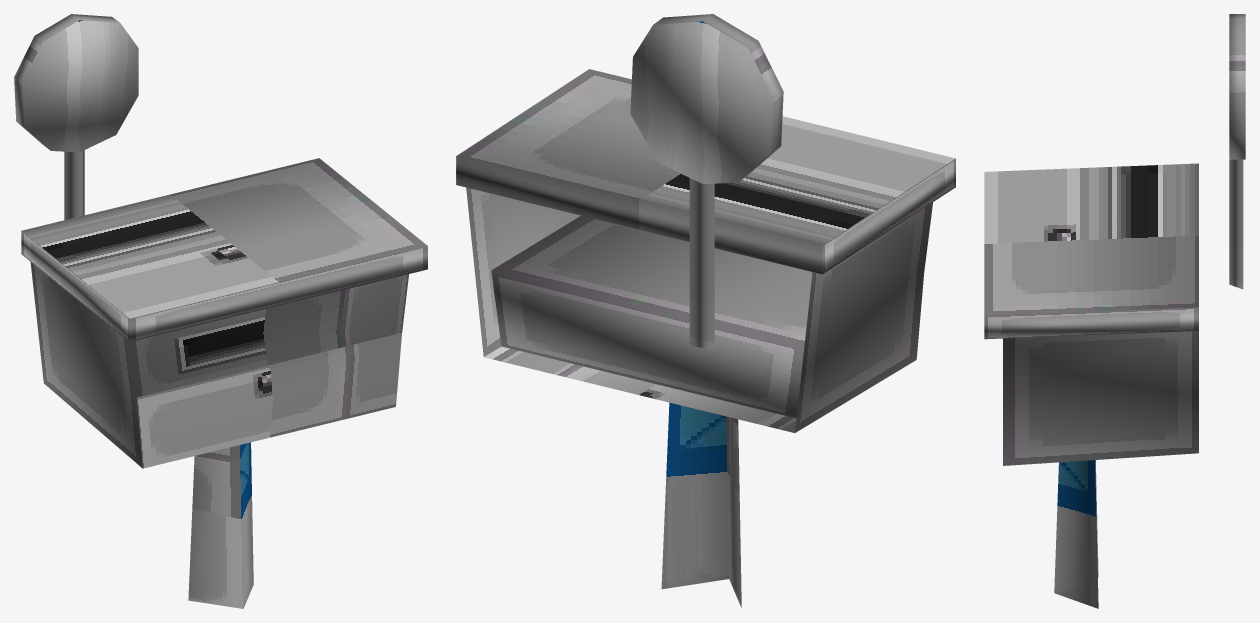
Rendered from int_post_D00.dae.
The picture shows the model from 3 angles, left to right: view 1: azimuth 30°, elevation 25°; view 2: azimuth 150°, elevation 25°; view 3: azimuth 270°, elevation 25°; orthographic projection. The views are drawn at different scales.
Parts seen in each view (by area): view 1: int_post_D00; view 2: int_post_D00; view 3: int_post_D00.
Part boxes in pixels (x1,y1,x2,y2): int_post_D00: (14, 14, 427, 608); int_post_D00: (456, 14, 955, 607); int_post_D00: (984, 14, 1245, 608).
Size of the model in its own units: 26.11 by 45.43 by 20.03.
1 material, 1 textured.
